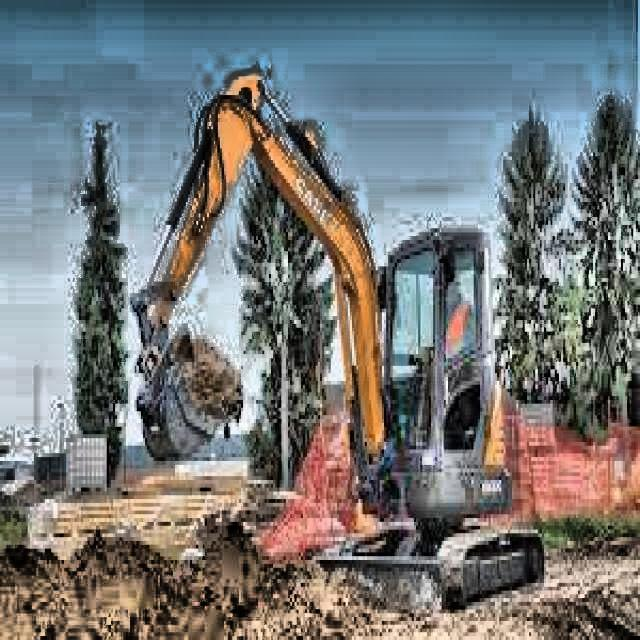bull_dozer/loader/grader: (126, 58, 548, 618)
person: (446, 276, 474, 350)
